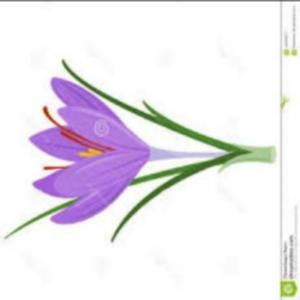Saffron: (30, 76, 163, 222)
